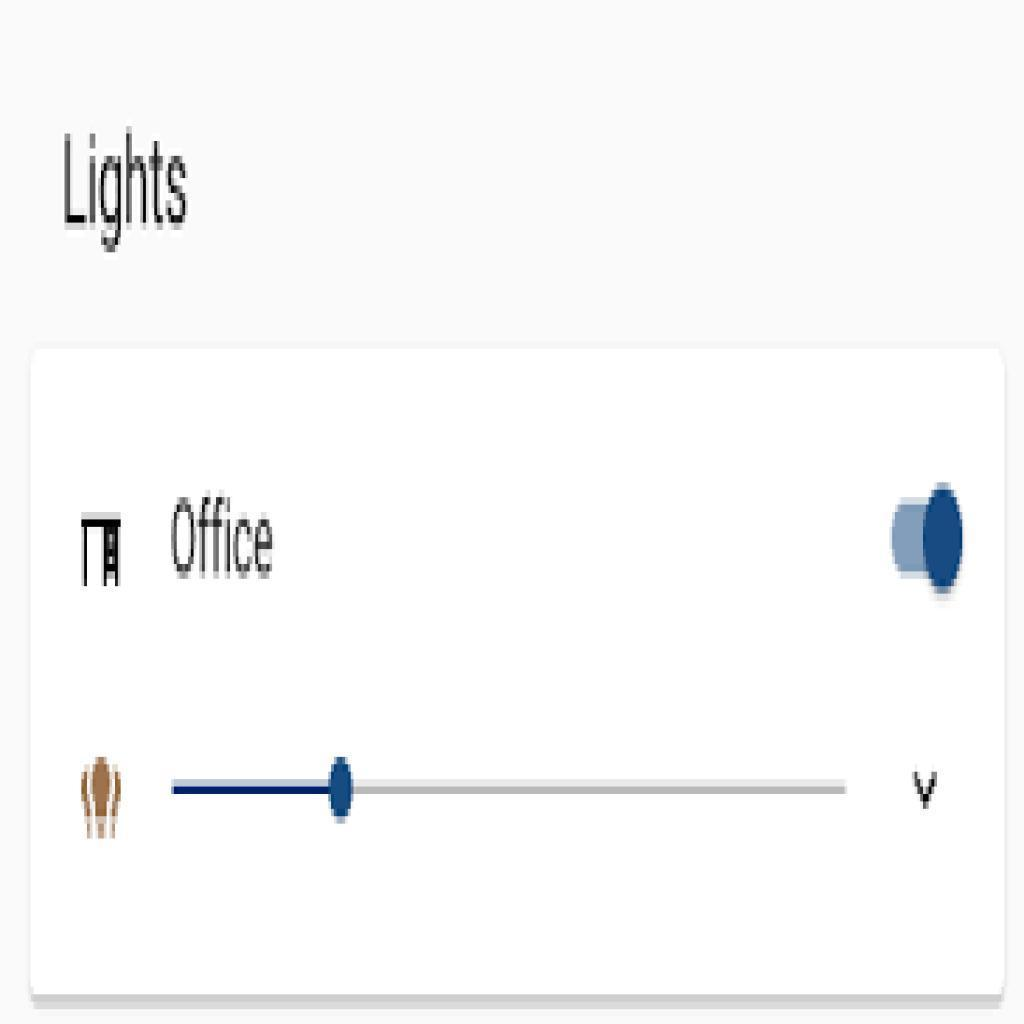icon: (76, 753, 134, 852), (77, 507, 126, 596), (902, 760, 952, 817)
label: (55, 125, 197, 254), (168, 490, 283, 589)
slider: (169, 759, 847, 824)
switch: (890, 484, 968, 597)
